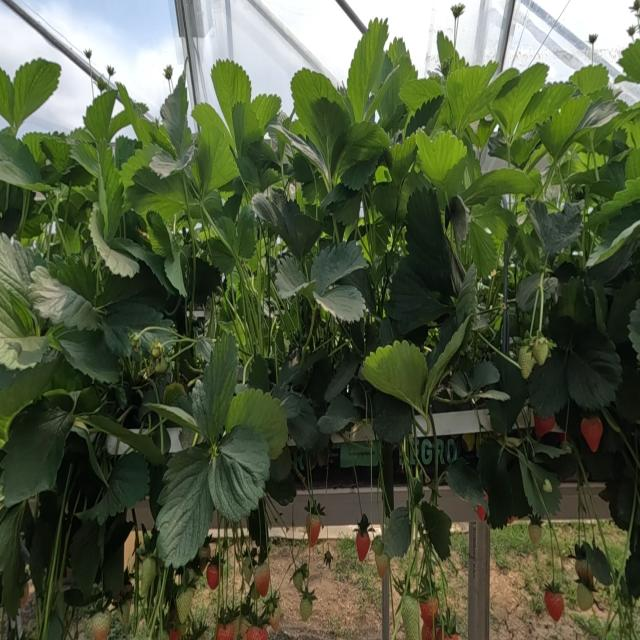Flowers: (451, 3, 463, 23), (164, 65, 173, 84), (105, 65, 115, 82)
Leaves: (1, 403, 71, 505), (155, 446, 212, 567), (425, 272, 477, 399), (208, 425, 269, 520), (290, 69, 347, 169), (190, 333, 239, 441), (540, 96, 619, 160), (406, 188, 452, 294), (566, 326, 622, 410), (387, 258, 449, 333), (361, 340, 427, 408), (28, 267, 99, 330), (478, 441, 530, 527), (94, 263, 167, 324), (252, 192, 321, 255), (225, 389, 287, 458), (192, 103, 238, 196), (346, 18, 387, 122), (103, 300, 177, 357), (491, 63, 547, 135), (444, 62, 497, 131), (333, 121, 391, 184), (0, 283, 42, 369), (97, 452, 149, 521), (95, 142, 129, 244), (57, 329, 119, 383), (418, 131, 467, 199), (0, 233, 46, 303), (12, 59, 59, 127), (29, 492, 60, 593), (375, 54, 416, 130), (128, 168, 185, 222), (90, 214, 138, 277), (311, 241, 367, 294), (529, 202, 582, 255), (520, 83, 574, 133), (518, 455, 561, 517), (529, 348, 567, 418), (211, 60, 251, 125), (588, 220, 640, 267), (277, 390, 318, 449), (0, 130, 41, 187), (70, 519, 99, 599), (48, 256, 97, 303), (161, 76, 188, 157), (469, 168, 534, 201), (607, 280, 639, 347), (372, 178, 418, 223), (372, 390, 411, 443), (446, 458, 486, 509), (120, 142, 162, 188), (314, 285, 366, 322), (471, 200, 517, 239), (421, 501, 451, 559), (466, 222, 497, 277), (318, 395, 359, 435), (232, 101, 262, 155), (84, 90, 115, 141), (327, 350, 359, 399), (558, 277, 591, 322), (399, 78, 444, 111), (384, 505, 411, 557), (149, 144, 194, 175), (275, 257, 308, 299), (145, 210, 172, 258), (583, 540, 611, 585), (448, 196, 471, 249), (195, 258, 220, 305), (569, 64, 608, 94), (251, 94, 281, 129), (70, 142, 99, 178), (236, 206, 256, 258), (390, 137, 416, 177), (516, 273, 541, 312), (467, 360, 499, 390), (42, 137, 70, 171), (208, 239, 235, 274), (215, 216, 239, 254), (0, 68, 14, 122), (449, 371, 471, 398), (470, 390, 510, 401), (542, 277, 559, 299), (492, 370, 498, 382)
Strawberries: (581, 417, 602, 451), (176, 588, 194, 623), (88, 612, 111, 639), (140, 557, 155, 596), (545, 590, 563, 622), (420, 596, 437, 628), (254, 562, 269, 596), (519, 345, 534, 379), (534, 416, 555, 438), (575, 560, 592, 587), (577, 583, 593, 611), (356, 532, 370, 561), (533, 337, 547, 363), (309, 515, 320, 547), (216, 622, 235, 639), (375, 554, 388, 578), (206, 565, 219, 588), (270, 606, 281, 631), (242, 556, 252, 583), (300, 597, 311, 621), (528, 525, 540, 545), (292, 570, 303, 591), (155, 356, 168, 373), (21, 581, 30, 604), (130, 333, 141, 348), (152, 343, 161, 357), (543, 479, 552, 492), (169, 629, 179, 639), (477, 505, 484, 519)
